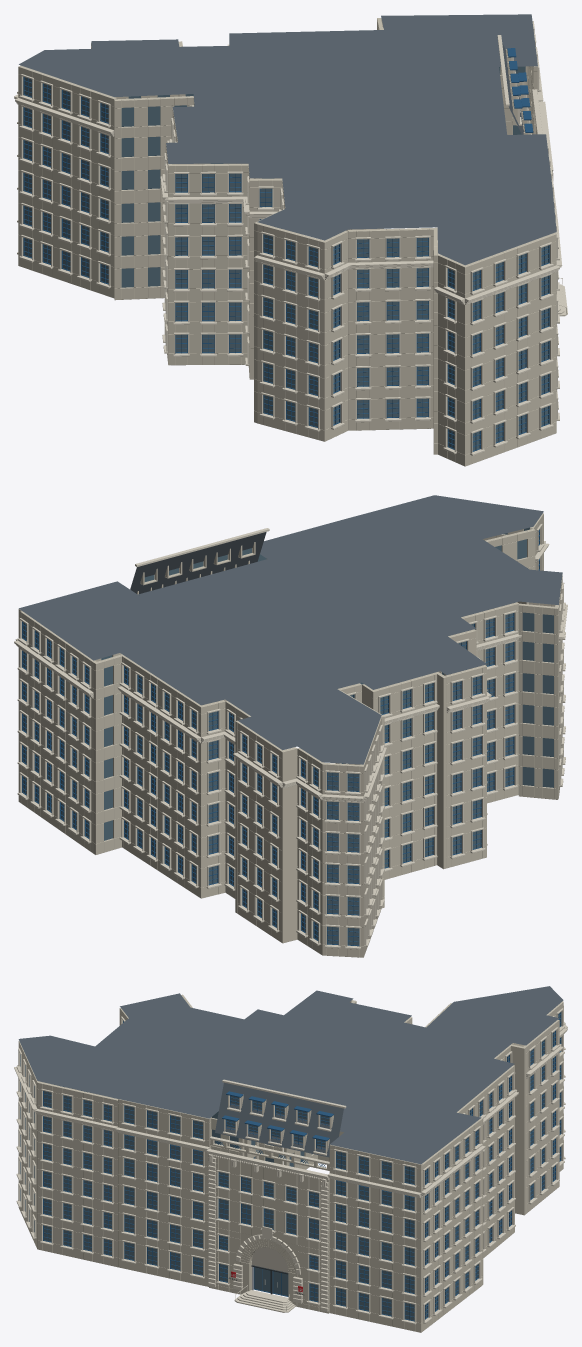
The model's file is old-exterior-396d6a5302fe.glb.
3 renders of one model, top to bottom at view 1: azimuth 30°, elevation 25°; view 2: azimuth 150°, elevation 25°; view 3: azimuth 270°, elevation 25°, orthographic. The views are drawn at different scales.
Visible parts, largest first — view 1: OLD.001; view 2: OLD.001; view 3: OLD.001.
Part boxes in pixels (x1=…): OLD.001: x1=14, y1=14, x2=567, y2=466; OLD.001: x1=14, y1=495, x2=567, y2=957; OLD.001: x1=14, y1=986, x2=567, y2=1332.
Size of the model in its own units: 56.8 by 28.37 by 73.14.
